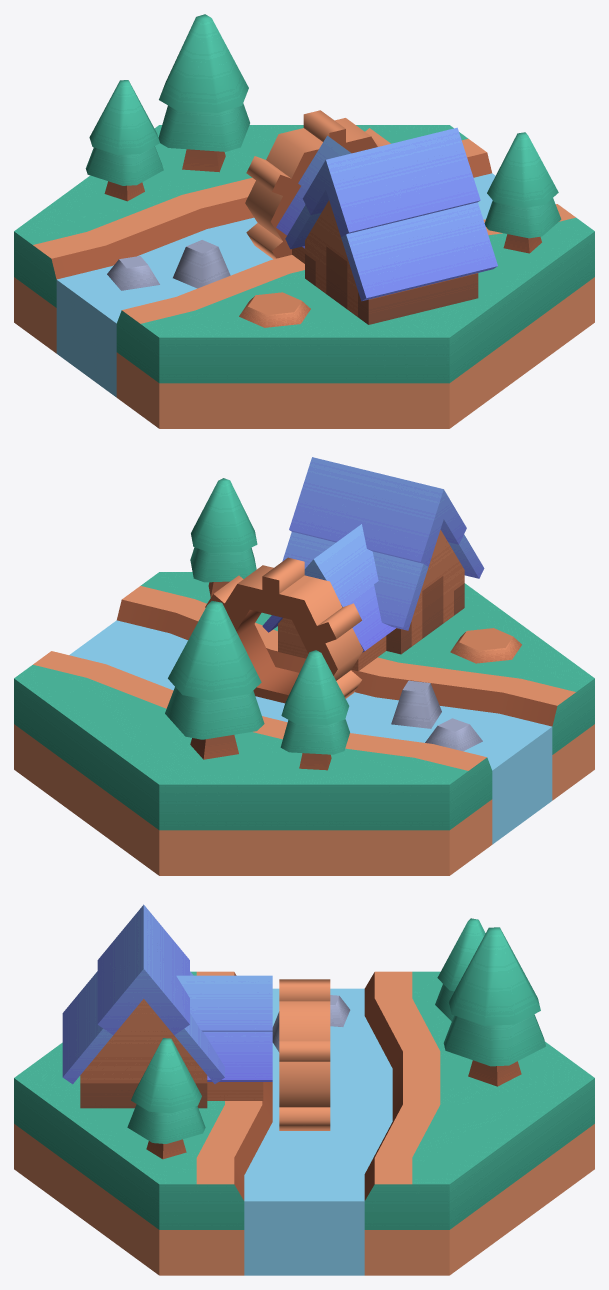
The model's file is building-watermill.glb.
The picture shows the model from 3 angles, top to bottom: view 1: azimuth 30°, elevation 25°; view 2: azimuth 150°, elevation 25°; view 3: azimuth 270°, elevation 25°; orthographic projection.
Visible parts, largest first — view 1: building-watermill, rotate-z; view 2: building-watermill, rotate-z; view 3: building-watermill, rotate-z.
Part boxes in pixels (box(x1,y1,x2,y2)): building-watermill: box(14, 14, 594, 428); rotate-z: box(245, 110, 390, 259); building-watermill: box(14, 457, 594, 875); rotate-z: box(205, 557, 363, 703); building-watermill: box(14, 904, 594, 1275); rotate-z: box(279, 979, 330, 1130).
Size of the model in its own units: 1 by 0.5192 by 1.15.
1 material, 1 textured.
